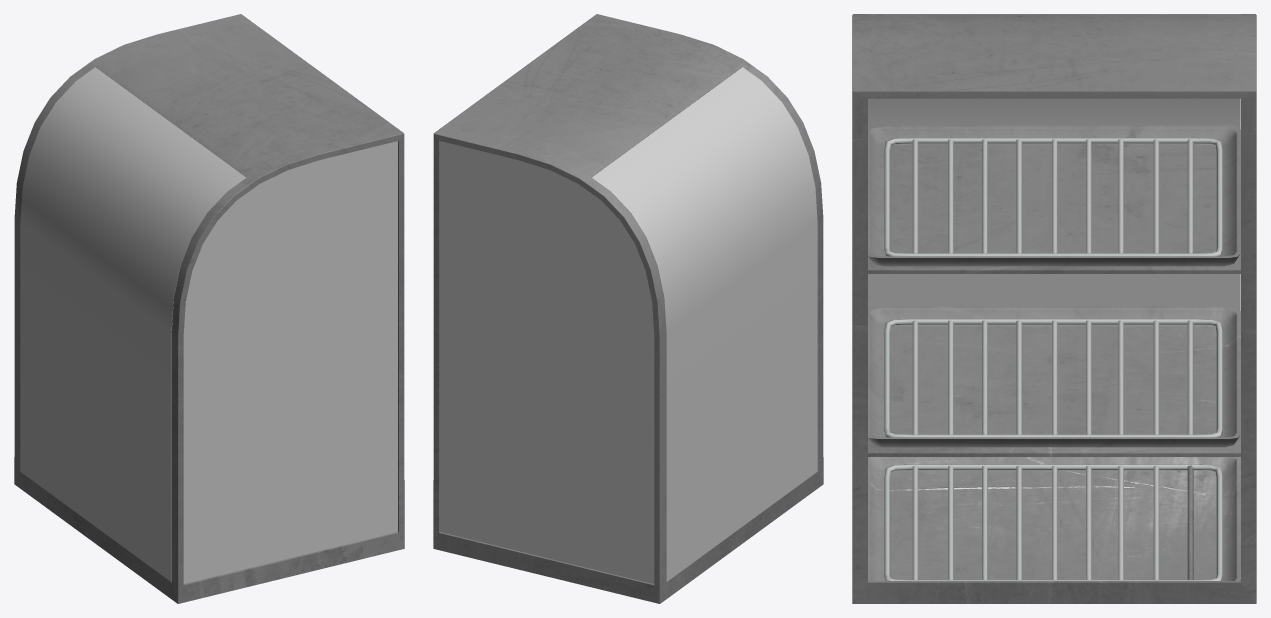
File: SM_Foodshelf_01.fbx
The picture shows the model from 3 angles, left to right: view 1: azimuth 30°, elevation 25°; view 2: azimuth 150°, elevation 25°; view 3: azimuth 270°, elevation 25°; orthographic projection. The views are drawn at different scales.
Visible parts, largest first — view 1: SM_Foodshelf_01_LOD0; view 2: SM_Foodshelf_01_LOD0; view 3: SM_Foodshelf_01_LOD0.
Part boxes in pixels (x1=…): SM_Foodshelf_01_LOD0: x1=14, y1=14, x2=404, y2=603; SM_Foodshelf_01_LOD0: x1=433, y1=14, x2=823, y2=603; SM_Foodshelf_01_LOD0: x1=852, y1=14, x2=1256, y2=603.
Bounding box in the file's own units: 40.04 × 50 × 70.
Materials: 2 (1 with a texture image).
